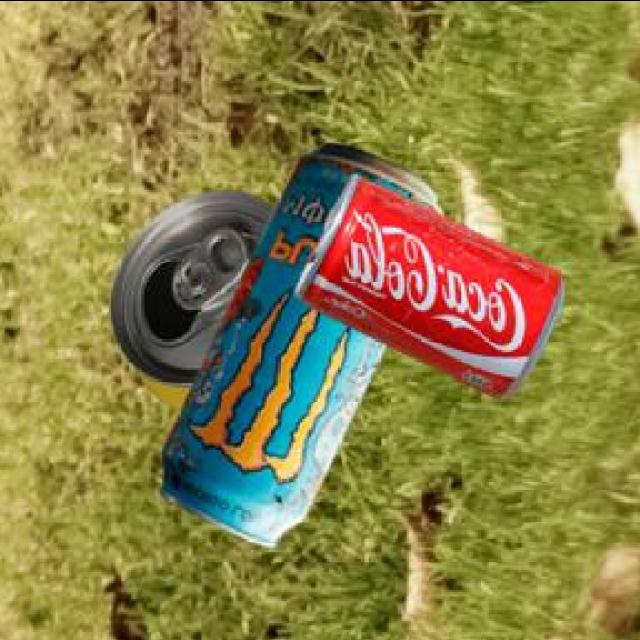logam: (157, 139, 441, 543), (292, 170, 561, 392), (108, 188, 272, 406)
